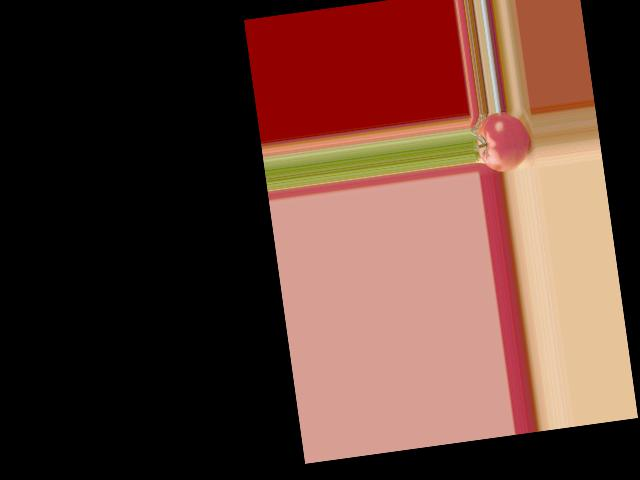tomato: (473, 109, 532, 174)
